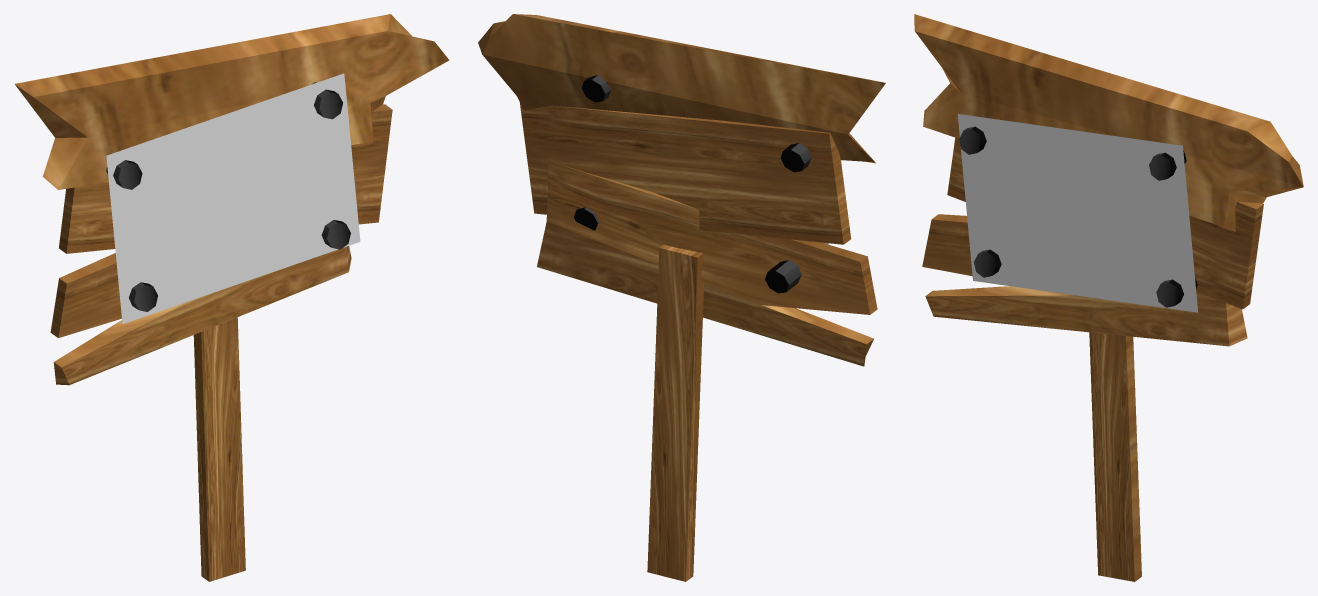
File: 20251016_wooden_billboard.fbx
3 renders of one model, left to right at view 1: azimuth 30°, elevation 25°; view 2: azimuth 150°, elevation 25°; view 3: azimuth 330°, elevation 25°, orthographic. The views are drawn at different scales.
Parts seen in each view (by area): view 1: wooden_billboard; view 2: wooden_billboard; view 3: wooden_billboard.
Part boxes in pixels (box(x1,y1,x2,y2)): wooden_billboard: box(15, 14, 449, 581); wooden_billboard: box(478, 14, 885, 581); wooden_billboard: box(914, 14, 1303, 581).
Size of the model in its own units: 806 by 992 by 127.
